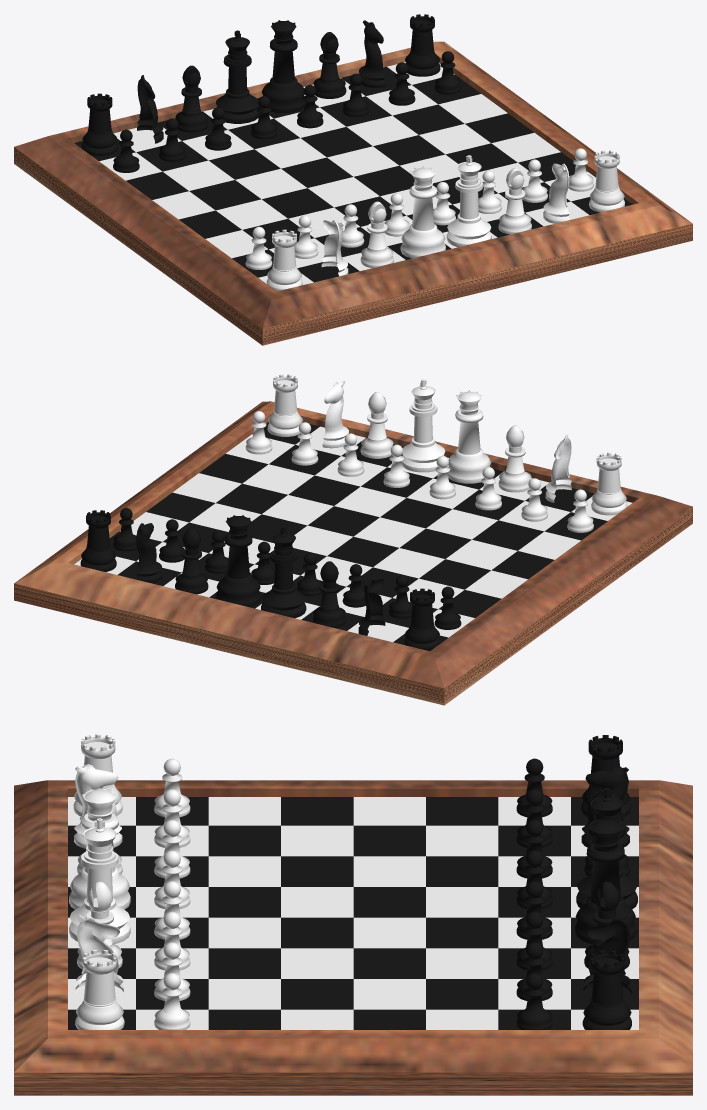
File: asset.glb
The picture shows the model from 3 angles, top to bottom: view 1: azimuth 30°, elevation 25°; view 2: azimuth 150°, elevation 25°; view 3: azimuth 270°, elevation 25°; orthographic projection. The views are drawn at different scales.
Visible parts, largest first — view 1: Chess Board, Chess Board Wood, Queen, Queen.001, King.001, King, Rock.003, Rock.002, Rock, Rock.001, Bishop.005, Bishop.004 (+22 smaller); view 2: Chess Board, Chess Board Wood, Queen.001, Queen, King.001, King, Rock.001, Rock, Rock.002, Rock.003, Bishop, Bishop.001 (+22 smaller); view 3: Chess Board, Chess Board Wood, Queen.001, King, Rock, Rock.002, Queen, King.001, Rock.003, Knight, Knight.002, Knight.003 (+20 smaller).
Boxes of the visible parts, x1=… form: Chess Board: x1=74, y1=62, x2=632, y2=285; Chess Board Wood: x1=14, y1=41, x2=692, y2=345; Queen: x1=400, y1=166, x2=445, y2=258; Queen.001: x1=262, y1=20, x2=305, y2=112; King.001: x1=215, y1=30, x2=259, y2=123; King: x1=446, y1=155, x2=491, y2=247; Rock.003: x1=82, y1=93, x2=117, y2=155; Rock.002: x1=405, y1=14, x2=440, y2=76; Rock: x1=589, y1=150, x2=624, y2=212; Rock.001: x1=266, y1=229, x2=302, y2=291; Bishop.005: x1=175, y1=65, x2=208, y2=132; Bishop.004: x1=313, y1=32, x2=346, y2=98; Chess Board: x1=74, y1=422, x2=632, y2=651; Chess Board Wood: x1=14, y1=401, x2=692, y2=705; Queen.001: x1=216, y1=515, x2=261, y2=606; Queen: x1=447, y1=390, x2=491, y2=483; King.001: x1=261, y1=526, x2=306, y2=618; King: x1=401, y1=379, x2=445, y2=472; Rock.001: x1=591, y1=452, x2=627, y2=515; Rock: x1=267, y1=374, x2=302, y2=436; Rock.002: x1=80, y1=510, x2=116, y2=571; Rock.003: x1=404, y1=588, x2=440, y2=650; Bishop: x1=498, y1=425, x2=531, y2=492; Bishop.001: x1=360, y1=392, x2=393, y2=458; Chess Board: x1=68, y1=797, x2=638, y2=1029; Chess Board Wood: x1=14, y1=780, x2=692, y2=1095; Queen.001: x1=575, y1=818, x2=636, y2=944; King: x1=69, y1=818, x2=130, y2=944; Rock: x1=75, y1=949, x2=124, y2=1029; Rock.002: x1=582, y1=950, x2=631, y2=1029; Queen: x1=69, y1=788, x2=130, y2=909; King.001: x1=576, y1=787, x2=637, y2=909; Rock.003: x1=581, y1=735, x2=630, y2=817; Knight: x1=75, y1=915, x2=123, y2=993; Knight.002: x1=583, y1=915, x2=631, y2=994; Knight.003: x1=581, y1=765, x2=629, y2=847.
Bounding box in the file's own units: 0.5622 × 0.1365 × 0.5622.
Materials: 3 (1 with a texture image).
